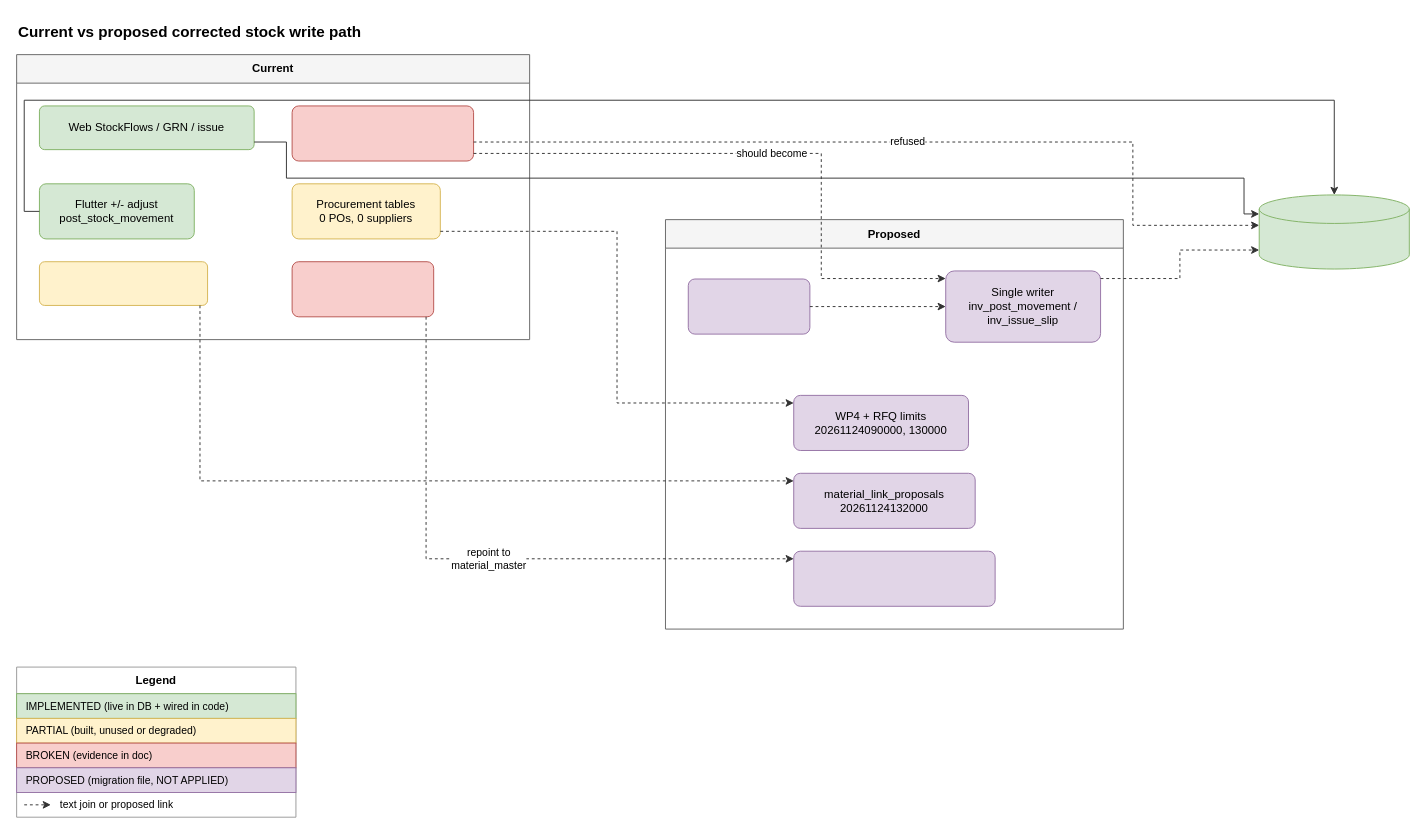
The diagram is 1426 pixels wide and 834 high, and some of its shapes have lost their labels. The centre of each missing label's shape, as x and y in pixels:
job_material_installations 20261124131000: the point at 894,578
main: Flutter Add stock stock_records insert: the point at 382,133
oem_part_references 0: the point at 123,283
parts_requests -> parts_catalog 0: the point at 362,289
stock_movements -> stock_records: the point at 1333,231
WP5 issue slip 20261124091000: the point at 748,306
